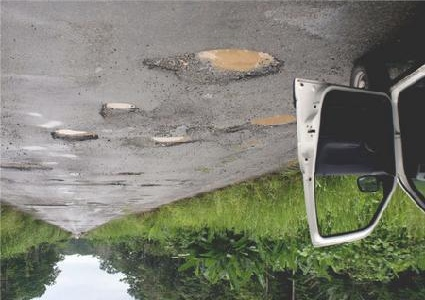pothole: (141, 46, 287, 87), (244, 113, 298, 132), (47, 128, 98, 144), (98, 99, 138, 118), (150, 134, 194, 148), (0, 162, 50, 174), (115, 169, 145, 178)
